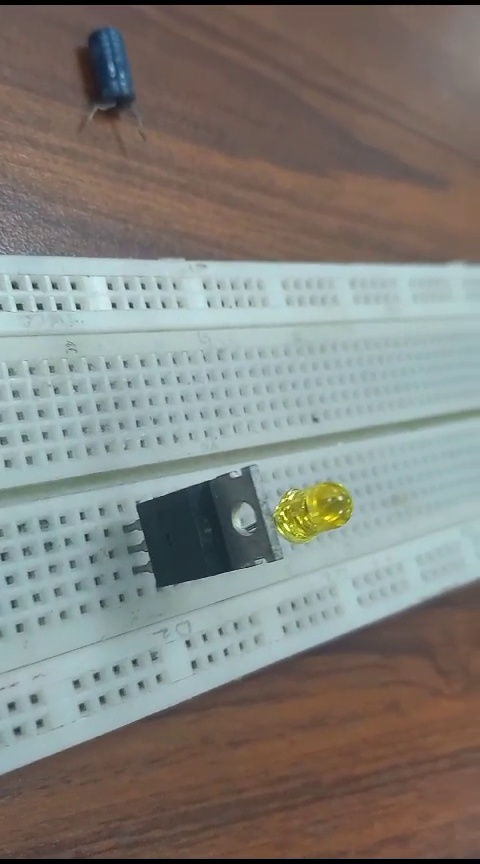LED: (272, 485, 355, 541)
voltage regulator: (114, 468, 282, 579)
